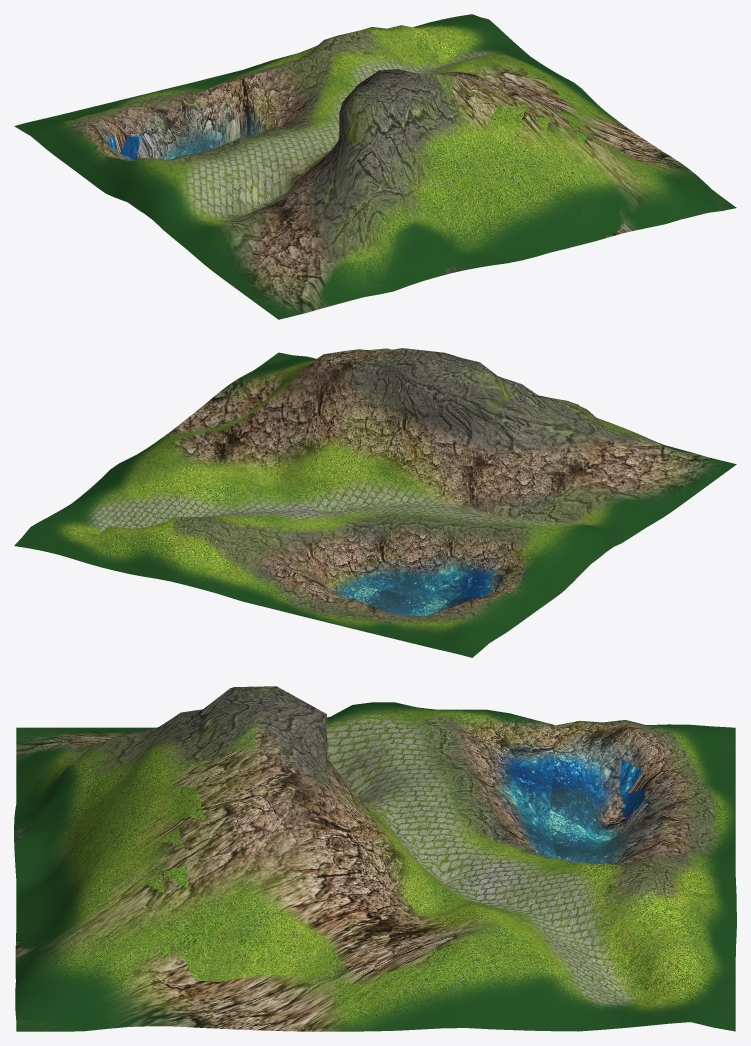
Rendered from collision_map.obj.
3 renders of one model, top to bottom at view 1: azimuth 30°, elevation 25°; view 2: azimuth 150°, elevation 25°; view 3: azimuth 270°, elevation 25°, orthographic. The views are drawn at different scales.
Visible parts, largest first — view 1: Plane_Plane_mat1.001; view 2: Plane_Plane_mat1.001; view 3: Plane_Plane_mat1.001.
Part boxes in pixels (x1,y1,x2,y2): Plane_Plane_mat1.001: (14,14,736,319); Plane_Plane_mat1.001: (14,348,736,657); Plane_Plane_mat1.001: (14,686,736,1031).
Size of the model in its own units: 332 by 108 by 330.
